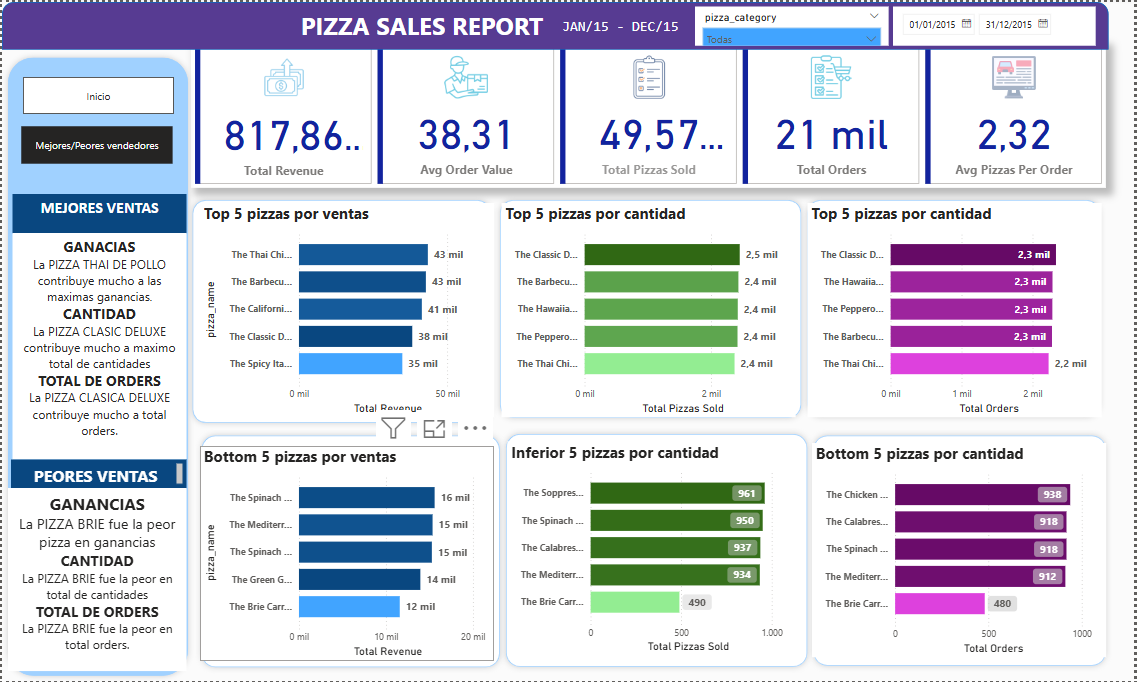

What the dashboard file says about the page in this screenshot:
{"tool":"powerbi","page":{"name":"Mejores/Peores vendedores","canvas":[1500,900],"ordinal":1},"visuals":[{"type":"cardVisual","fields":{"Data":["pizza_sales.Total Revenue","pizza_sales.Avg Order Value","pizza_sales.Total Pizzas Sold","pizza_sales.Total Orders","pizza_sales.Avg Pizzas Per Order"]},"box":[250.5,51.7,1212.8,194.8],"z":0},{"type":"shape","box":[0,0,1473.3,63.6],"z":1000},{"type":"textbox","box":[363.9,4,385.7,61.6],"z":2000},{"type":"textbox","box":[737.6,15.9,175,39.8],"z":3000},{"type":"shape","box":[244.6,254.5,411.6,311.5],"z":4000},{"type":"shape","box":[0,65.6,254.5,835.1],"z":14000},{"type":"textbox","box":[13.9,254.5,230.6,51.7],"z":15000},{"type":"textbox","box":[13.9,306.2,230.6,300.2],"z":16000},{"type":"textbox","box":[11.9,606.4,232.6,37.8],"z":17000},{"type":"textbox","box":[8,644.2,236.6,242.6],"z":18000},{"type":"slicer","fields":{"Values":["pizza_sales.pizza_category"]},"box":[918.6,6,256.5,51.7],"z":19000},{"type":"slicer","fields":{"Values":["pizza_sales.order_date"]},"box":[1181,6,268.4,51.7],"z":20000},{"type":"shape","box":[652.2,254.5,415.5,304.9],"z":20001},{"type":"shape","box":[1059.7,254.5,403.6,303.5],"z":20002},{"type":"shape","box":[256.5,567.3,411.6,323.4],"z":20003},{"type":"shape","box":[660.1,564,415.5,324.7],"z":20004},{"type":"shape","box":[1067.7,566.7,403.6,321.4],"z":20005},{"type":"barChart","title":"Top 5 pizzas por ventas","fields":{"Category":["pizza_sales.pizza_name"],"Y":["pizza_sales.Total Revenue"]},"box":[262.5,266.4,389.7,284.3],"z":20006},{"type":"barChart","title":"Bottom 5 pizzas por ventas","fields":{"Category":["pizza_sales.pizza_name"],"Y":["pizza_sales.Total Revenue"]},"box":[262.5,588.5,389.7,284.3],"z":20007},{"type":"barChart","title":"Top 5 pizzas por cantidad","fields":{"Category":["pizza_sales.pizza_name"],"Y":["pizza_sales.Total Pizzas Sold"]},"box":[662.1,266.4,389.7,284.3],"z":20008},{"type":"barChart","title":"Inferior 5 pizzas por cantidad","fields":{"Category":["pizza_sales.pizza_name"],"Y":["pizza_sales.Total Pizzas Sold"]},"box":[670,582.6,389.7,284.3],"z":20009},{"type":"barChart","title":"Top 5 pizzas por cantidad","fields":{"Category":["pizza_sales.pizza_name"],"Y":["pizza_sales.Total Orders"]},"box":[1067.7,266.4,389.7,284.3],"z":20010},{"type":"barChart","title":"Bottom 5 pizzas por cantidad","fields":{"Category":["pizza_sales.pizza_name"],"Y":["pizza_sales.Total Orders"]},"box":[1073.7,584.5,389.7,284.3],"z":20011},{"type":"pageNavigator","box":[27.8,99.4,200.8,49.7],"z":20012},{"type":"pageNavigator","box":[25.8,165,200.8,49.7],"z":20013}]}

Visuals, with their boxes in screenshot pixels (x1, y1, x2, y2), scaled from the page's 1500x900 canvas onto the 1137x682 screenshot:
cardVisual - pizza_sales.Total Revenue x pizza_sales.Avg Order Value: 190, 39, 1109, 187
shape: 0, 0, 1117, 48
textbox: 276, 3, 568, 50
textbox: 559, 12, 692, 42
shape: 185, 193, 497, 429
shape: 0, 50, 193, 681
textbox: 11, 193, 185, 232
textbox: 11, 232, 185, 460
textbox: 9, 460, 185, 488
textbox: 6, 488, 185, 672
slicer - pizza_sales.pizza_category: 696, 5, 891, 44
slicer - pizza_sales.order_date: 895, 5, 1099, 44
shape: 494, 193, 809, 424
shape: 803, 193, 1109, 423
shape: 194, 430, 506, 675
shape: 500, 427, 815, 673
shape: 809, 429, 1115, 673
"Top 5 pizzas por ventas" barChart: 199, 202, 494, 417
"Bottom 5 pizzas por ventas" barChart: 199, 446, 494, 661
"Top 5 pizzas por cantidad" barChart: 502, 202, 797, 417
"Inferior 5 pizzas por cantidad" barChart: 508, 441, 803, 657
"Top 5 pizzas por cantidad" barChart: 809, 202, 1105, 417
"Bottom 5 pizzas por cantidad" barChart: 814, 443, 1109, 658
pageNavigator: 21, 75, 173, 113
pageNavigator: 20, 125, 172, 163
